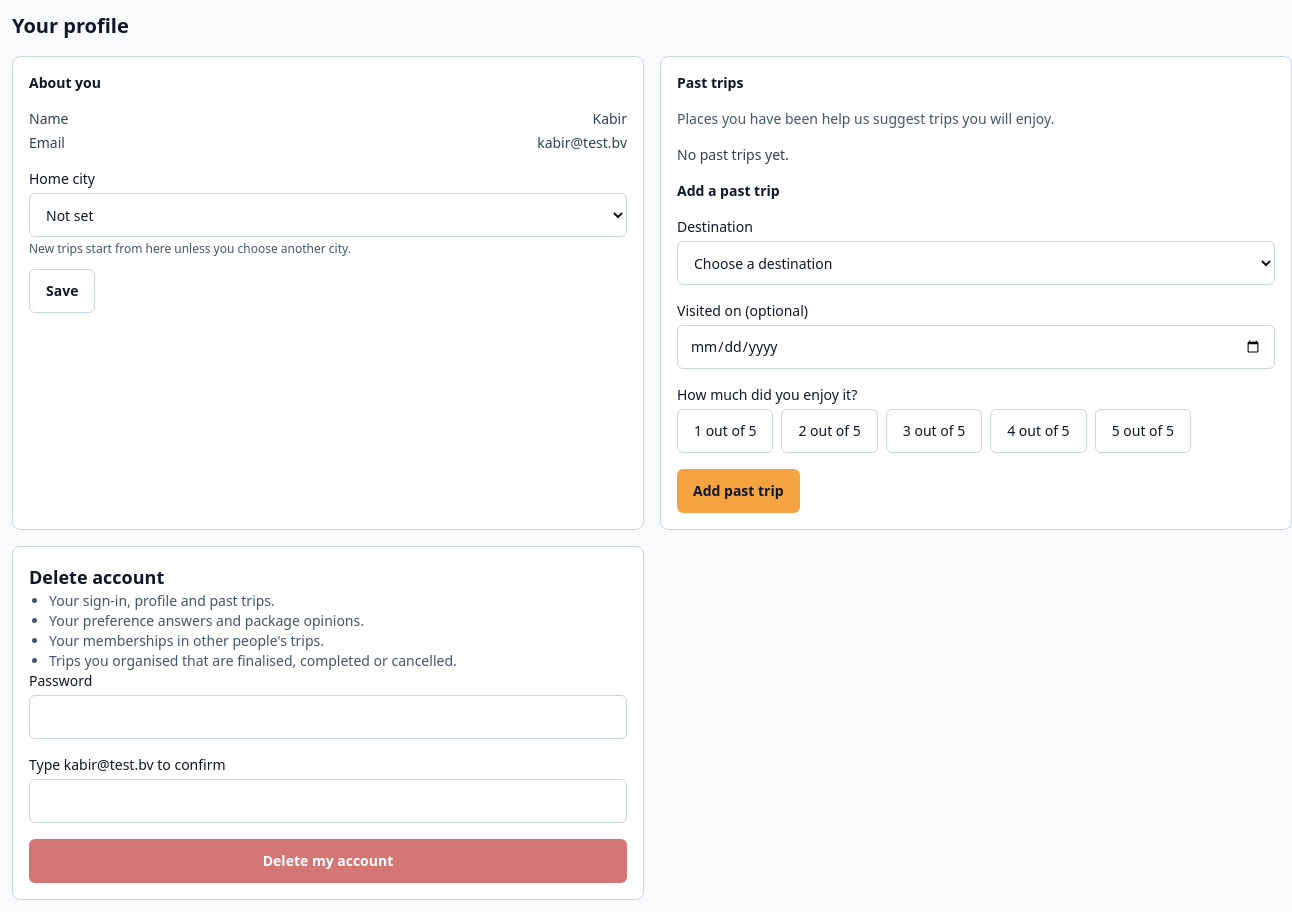
Test: ProfilePage delete account › keeps Delete my account disabled until both fields are filled
Expected: the button "Delete my account" is disabled, x1=29 y1=839 x2=627 y2=883
Type "pw-123456789" into the password field labelled "Password" at (328, 717), box x1=29 y1=695 x2=627 y2=739
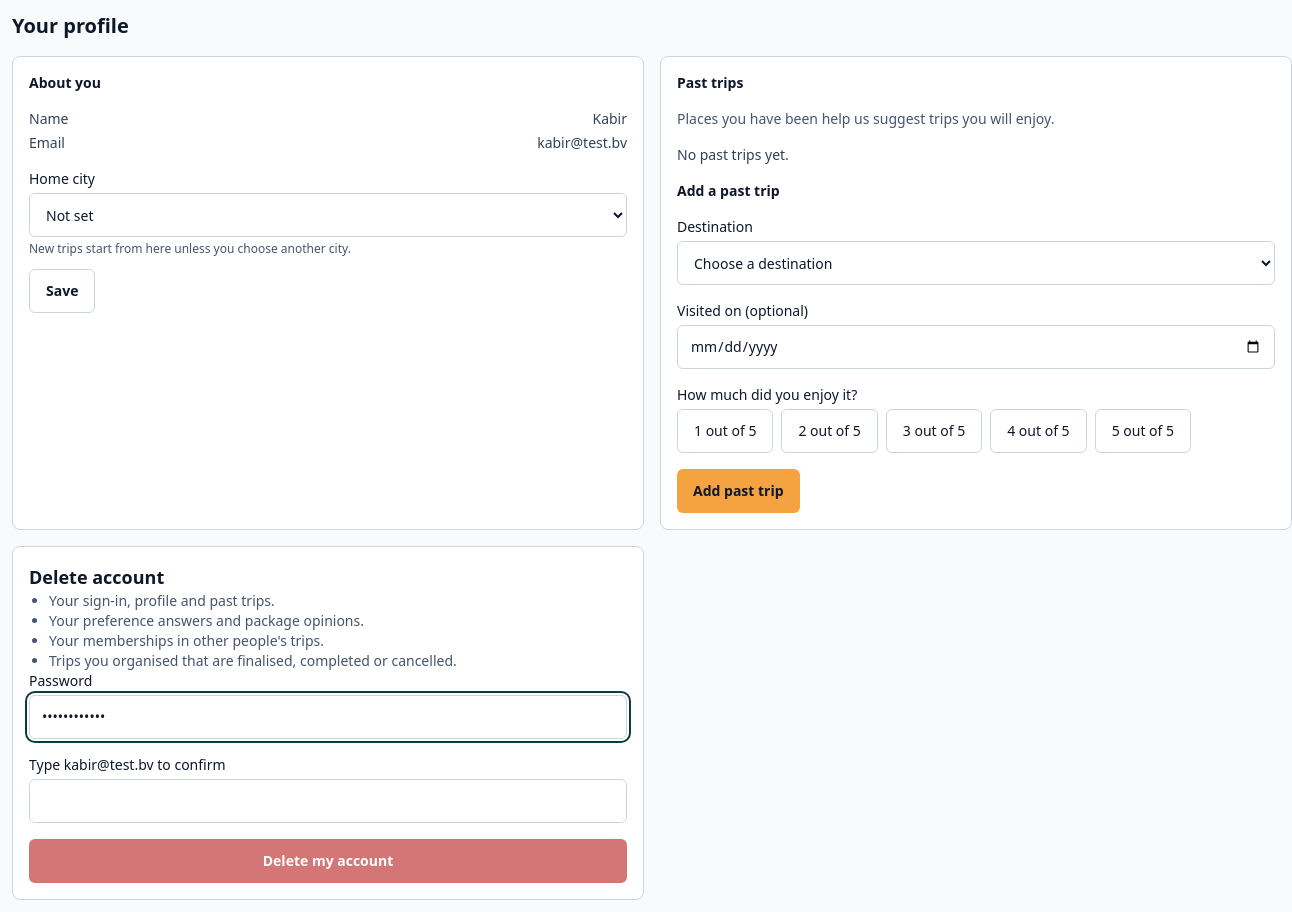
Expected: the button "Delete my account" is disabled, x1=29 y1=839 x2=627 y2=883
Type "kabir@test.bv" into the field labelled "Type kabir@test.bv to confirm" at (328, 801), box x1=29 y1=779 x2=627 y2=823
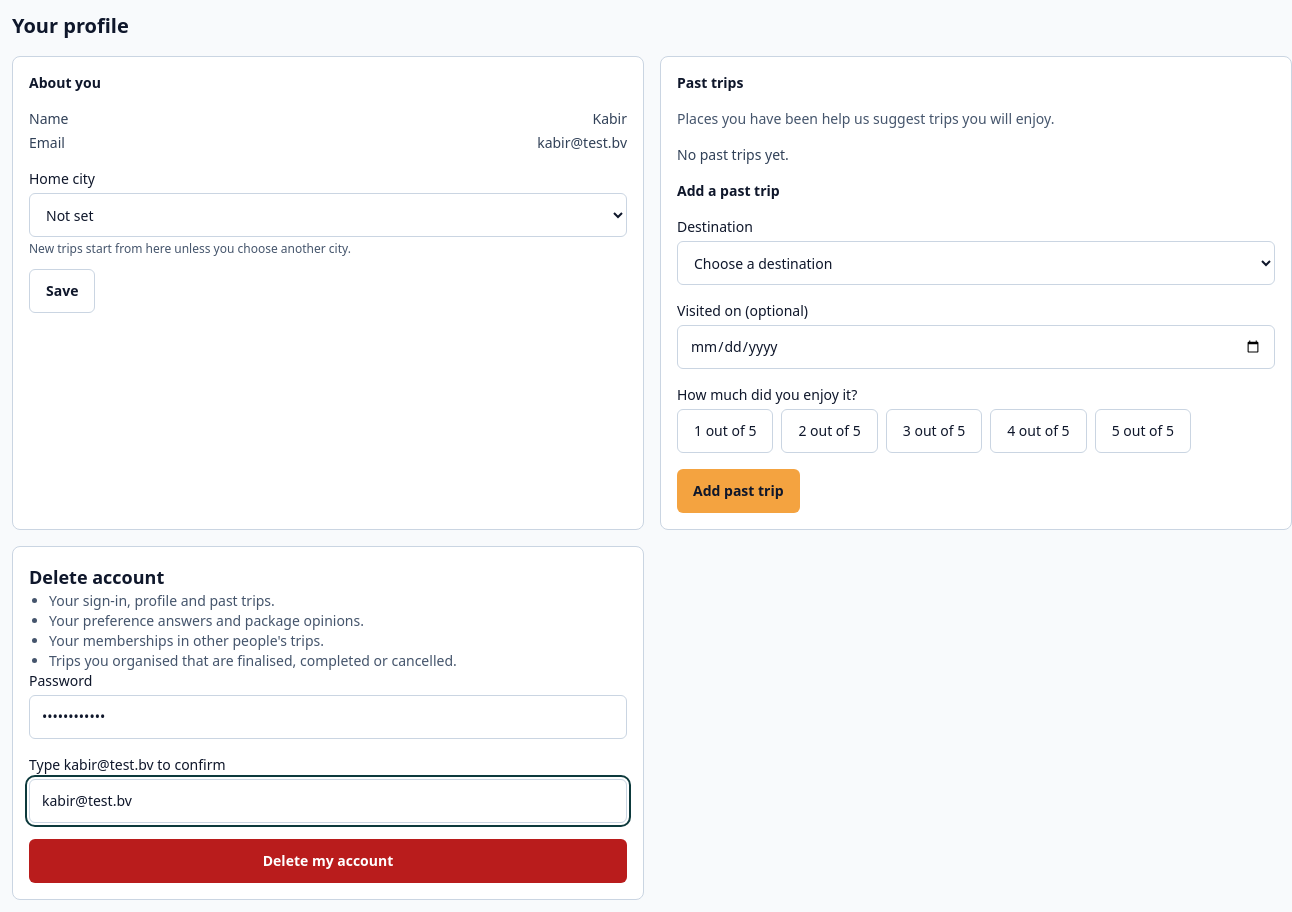
Expected: the button "Delete my account" is enabled, x1=29 y1=839 x2=627 y2=883
